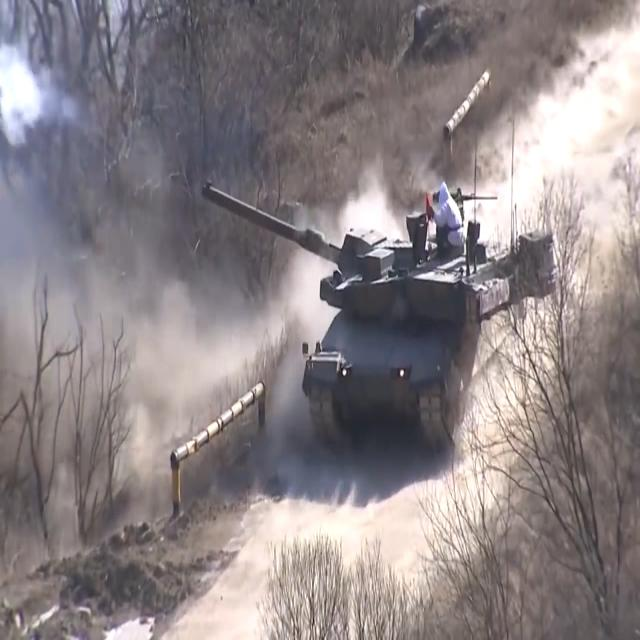korea tank: (199, 180, 559, 460)
